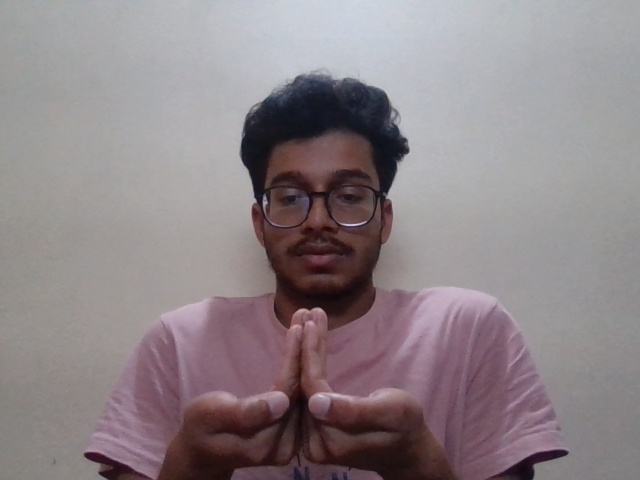tomorrow: (169, 302, 445, 468)
